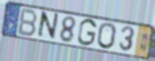3: (118, 26, 136, 53)
8: (59, 15, 77, 44)
B: (16, 7, 39, 38)
G: (76, 18, 98, 48)
N: (36, 10, 61, 41)
O: (96, 22, 117, 51)
